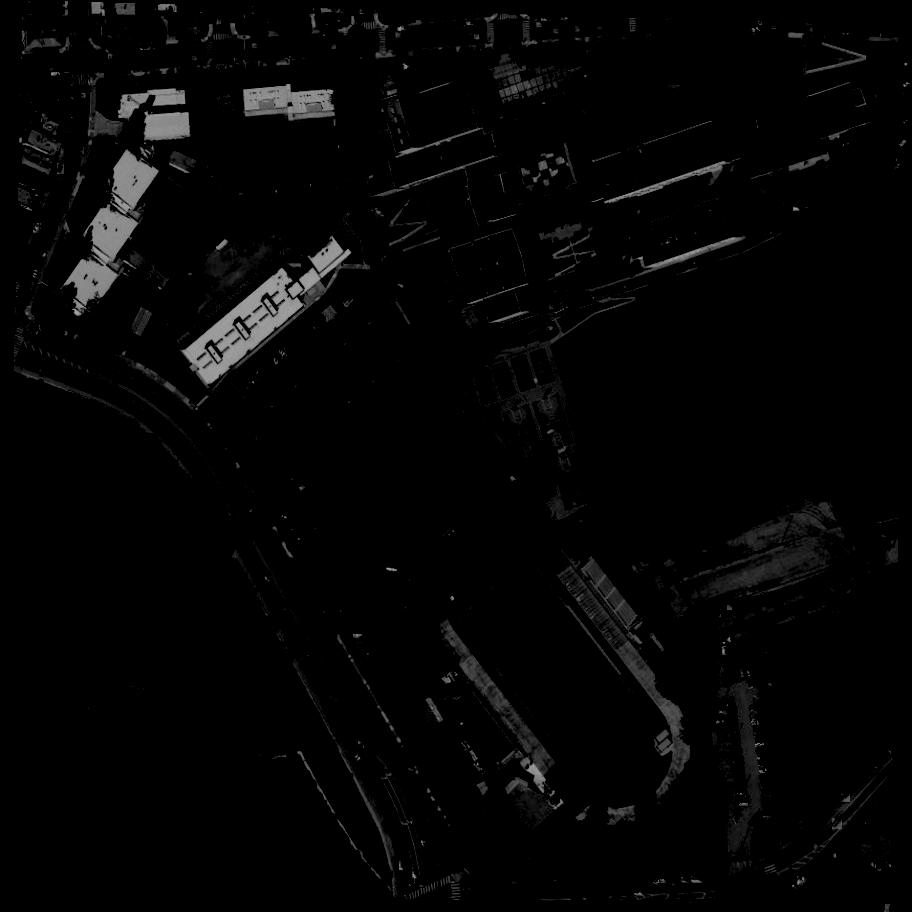small-vehicle: (172, 441, 184, 452), (833, 818, 843, 831), (376, 208, 387, 219), (856, 775, 867, 786), (264, 575, 274, 586), (354, 750, 363, 762), (339, 722, 349, 732), (282, 346, 292, 356), (58, 204, 68, 214), (797, 877, 807, 887), (240, 535, 249, 545), (289, 340, 299, 349), (27, 326, 37, 335), (33, 224, 42, 234), (850, 783, 859, 793), (895, 160, 904, 170), (894, 155, 903, 165), (899, 138, 908, 148), (402, 59, 410, 70), (204, 431, 212, 442), (57, 164, 65, 175), (715, 708, 726, 716), (24, 247, 33, 256), (278, 349, 287, 358), (270, 355, 279, 364), (824, 163, 833, 172), (368, 661, 378, 669), (334, 695, 342, 705), (244, 501, 252, 511), (317, 315, 325, 325), (338, 609, 348, 617), (733, 748, 743, 756), (669, 875, 679, 883), (840, 136, 848, 146), (734, 641, 742, 651), (281, 514, 292, 521), (815, 854, 824, 862), (841, 795, 850, 803), (762, 792, 771, 800), (751, 716, 760, 724), (322, 690, 329, 700), (226, 503, 233, 513), (562, 880, 572, 887), (408, 877, 415, 887), (357, 739, 364, 749), (541, 15, 551, 22), (113, 365, 123, 372), (267, 358, 273, 369), (881, 32, 892, 38), (298, 647, 305, 656), (286, 525, 295, 532), (305, 327, 312, 336), (68, 120, 75, 129), (372, 770, 379, 779), (254, 369, 261, 378), (152, 385, 161, 392), (38, 215, 45, 224), (563, 32, 572, 39), (878, 861, 885, 870), (727, 602, 734, 611), (899, 166, 908, 173), (707, 608, 714, 617), (290, 531, 300, 537), (302, 330, 308, 340), (34, 270, 40, 280), (727, 713, 737, 719), (759, 767, 769, 773), (746, 665, 752, 675), (313, 320, 321, 327), (298, 335, 306, 342), (732, 741, 740, 748), (734, 814, 741, 822), (852, 830, 860, 837), (860, 823, 867, 831), (873, 760, 881, 767), (751, 711, 759, 718), (356, 641, 365, 647), (278, 612, 284, 621), (364, 652, 373, 658), (399, 835, 405, 844), (247, 376, 253, 385), (42, 250, 48, 259), (733, 764, 742, 770), (829, 29, 838, 35), (777, 26, 786, 32), (400, 861, 405, 871), (762, 784, 772, 789), (740, 667, 745, 677), (731, 672, 736, 682), (740, 598, 747, 605), (582, 880, 590, 886), (412, 869, 418, 877), (310, 322, 316, 330), (235, 57, 243, 63), (53, 347, 61, 353), (609, 31, 617, 37), (729, 645, 735, 653), (320, 529, 325, 538), (308, 648, 313, 657), (178, 41, 187, 46), (590, 881, 599, 886), (435, 859, 440, 868), (70, 111, 75, 120), (719, 728, 728, 733), (761, 210, 766, 219), (757, 208, 762, 217), (312, 520, 317, 528), (431, 23, 439, 28), (295, 337, 300, 345), (734, 780, 742, 785), (735, 758, 743, 763), (727, 709, 735, 714), (724, 703, 732, 708), (723, 699, 733, 703), (757, 756, 765, 761), (191, 40, 200, 44), (735, 789, 744, 793), (736, 793, 745, 797), (634, 889, 643, 893), (798, 29, 807, 33), (762, 807, 769, 812), (650, 877, 657, 882), (759, 761, 766, 766), (756, 738, 763, 743), (240, 448, 248, 452), (723, 753, 731, 757), (717, 721, 725, 725), (751, 27, 759, 31), (717, 609, 721, 617), (555, 880, 561, 885), (466, 22, 473, 26), (107, 47, 114, 51), (739, 799, 746, 803), (611, 879, 618, 883), (846, 135, 850, 142), (842, 30, 849, 34), (754, 731, 761, 735), (353, 635, 362, 638), (386, 28, 395, 31), (298, 54, 307, 57), (72, 101, 75, 110), (759, 775, 768, 778), (736, 671, 739, 680), (54, 223, 58, 229), (572, 880, 580, 883), (420, 877, 423, 885), (793, 207, 799, 211), (51, 72, 57, 76), (735, 775, 743, 778), (734, 770, 742, 773), (731, 735, 739, 738), (740, 803, 748, 806), (883, 866, 886, 874), (661, 878, 667, 882), (642, 878, 650, 881), (629, 880, 635, 884), (721, 634, 724, 642), (749, 684, 757, 687), (420, 26, 427, 29), (454, 23, 461, 26), (81, 147, 84, 154), (731, 728, 738, 731), (762, 788, 769, 791), (753, 723, 760, 726), (747, 678, 754, 681), (723, 648, 726, 655), (872, 857, 874, 867), (622, 880, 627, 884), (308, 513, 311, 519), (422, 837, 425, 843), (398, 27, 404, 30), (789, 886, 795, 889), (761, 780, 767, 783), (756, 744, 762, 747), (729, 636, 732, 642), (316, 524, 318, 532), (444, 22, 452, 24), (728, 723, 736, 725), (763, 813, 771, 815), (692, 877, 700, 879), (749, 706, 757, 708), (682, 877, 687, 880), (759, 749, 764, 752), (297, 539, 304, 541), (763, 800, 770, 802), (872, 32, 879, 34), (153, 45, 159, 47), (281, 55, 287, 57), (476, 21, 482, 23), (140, 46, 146, 48), (736, 785, 742, 787), (730, 719, 734, 722), (854, 30, 860, 32), (817, 29, 823, 31), (743, 27, 749, 29), (719, 25, 725, 27), (700, 25, 706, 27), (71, 91, 73, 96)
